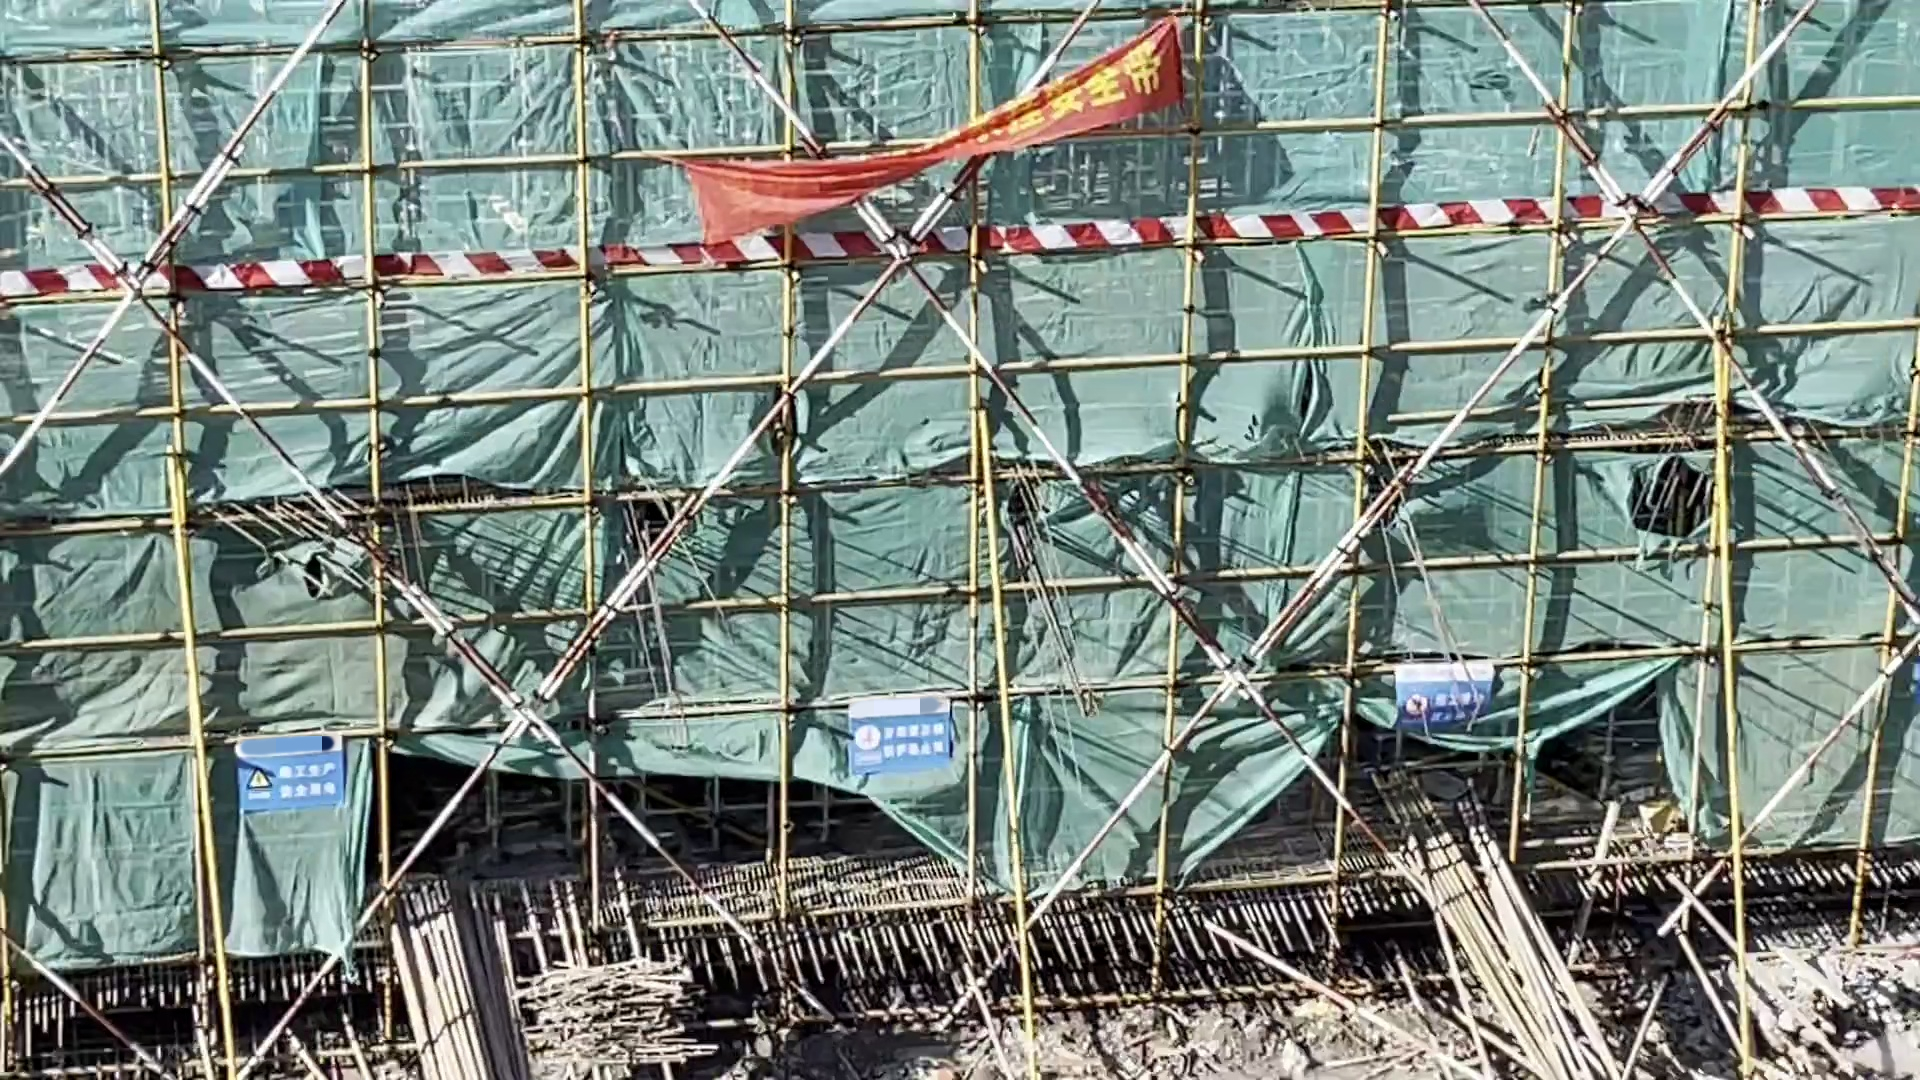slogan: (615, 16, 1222, 256), (840, 680, 975, 786), (1378, 638, 1505, 745), (219, 719, 353, 811)
